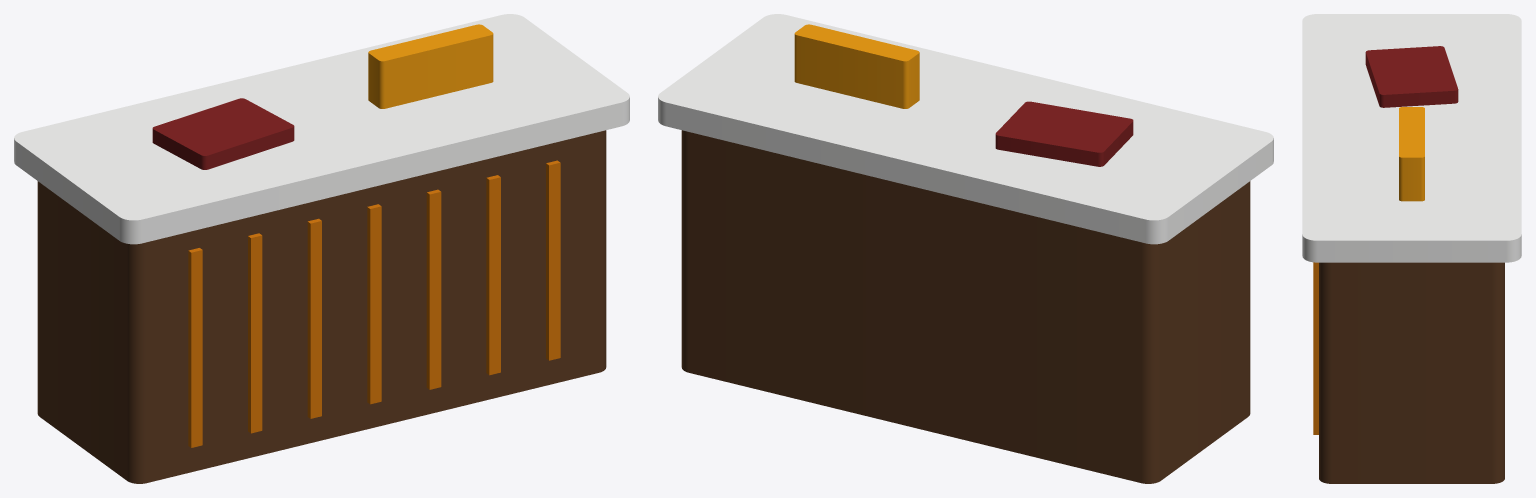
The model's file is reception_desk.glb.
The picture shows the model from 3 angles, left to right: view 1: azimuth 30°, elevation 25°; view 2: azimuth 150°, elevation 25°; view 3: azimuth 270°, elevation 25°; orthographic projection. The views are drawn at different scales.
Parts seen in each view (by area): view 1: rec_body, rec_top, rec_sign, guestbook, rslat_1, rslat_0, rslat_-1, rslat_-2, rslat_3, rslat_2, rslat_-3; view 2: rec_body, rec_top, rec_sign, guestbook; view 3: rec_top, rec_body, guestbook, rec_sign, rslat_3.
Part boxes in pixels (x1=…): rec_body: x1=37, y1=130, x2=606, y2=483; rec_top: x1=14, y1=14, x2=629, y2=244; rec_sign: x1=368, y1=24, x2=493, y2=108; guestbook: x1=152, y1=98, x2=294, y2=169; rslat_1: x1=426, y1=189, x2=441, y2=389; rslat_0: x1=367, y1=204, x2=381, y2=404; rslat_-1: x1=307, y1=218, x2=321, y2=418; rslat_-2: x1=248, y1=233, x2=262, y2=433; rslat_3: x1=546, y1=160, x2=560, y2=360; rslat_2: x1=486, y1=175, x2=500, y2=375; rslat_-3: x1=188, y1=248, x2=202, y2=447; rec_body: x1=681, y1=130, x2=1250, y2=483; rec_top: x1=658, y1=14, x2=1273, y2=244; rec_sign: x1=794, y1=24, x2=919, y2=108; guestbook: x1=995, y1=101, x2=1133, y2=166; rec_top: x1=1302, y1=14, x2=1521, y2=262; rec_body: x1=1319, y1=262, x2=1504, y2=483; guestbook: x1=1365, y1=46, x2=1458, y2=107; rec_sign: x1=1399, y1=107, x2=1424, y2=201; rslat_3: x1=1313, y1=262, x2=1318, y2=434.
Bounding box in the file's own units: 0.98 × 0.592 × 0.4.
